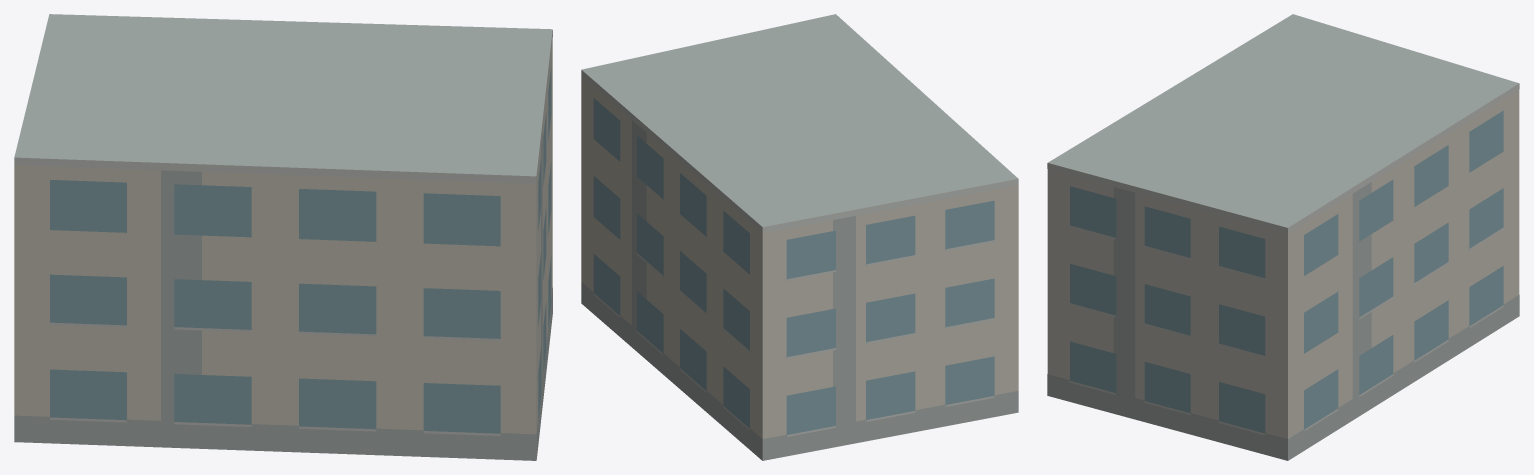
The model's file is survey-upis-32791609.glb.
3 views of the same model, side by side, from view 1: azimuth 30°, elevation 25°; view 2: azimuth 150°, elevation 25°; view 3: azimuth 270°, elevation 25° (orthographic). The views are drawn at different scales.
Parts seen in each view (by area): view 1: survey-upis-32791609.tmp; view 2: survey-upis-32791609.tmp; view 3: survey-upis-32791609.tmp.
Boxes of the visible parts, box(x1,y1,x2,y2) form: survey-upis-32791609.tmp: box(14, 14, 552, 460); survey-upis-32791609.tmp: box(581, 14, 1018, 460); survey-upis-32791609.tmp: box(1047, 14, 1519, 460).
Bounding box in the file's own units: 18.03 × 9.15 × 16.8.
